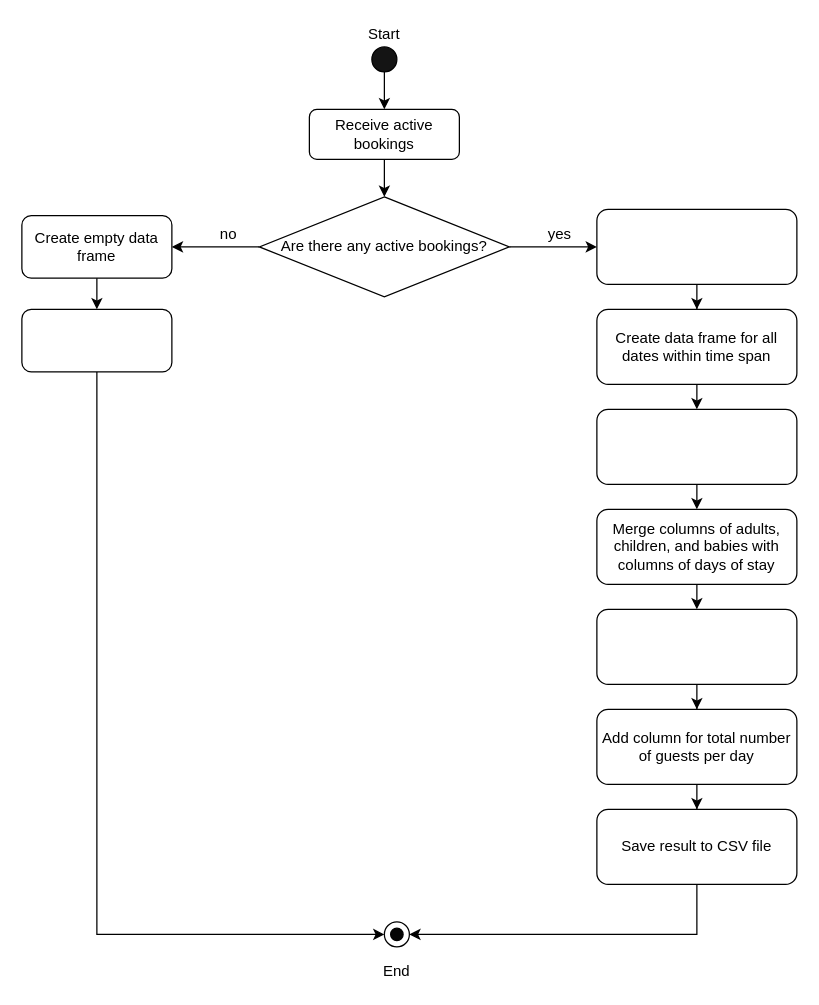
The diagram is 819 pixels wide and 1005 high, and some of its shapes have lost their labels. Each missing label, with the centre of its shape:
"Add row with unique id" belongs at (x=696, y=246).
"Map unique ids to each day" belongs at (x=696, y=446).
"Save data frame as CSV" belongs at (x=96, y=340).
"Sum up number of guests per day" belongs at (x=696, y=646).
